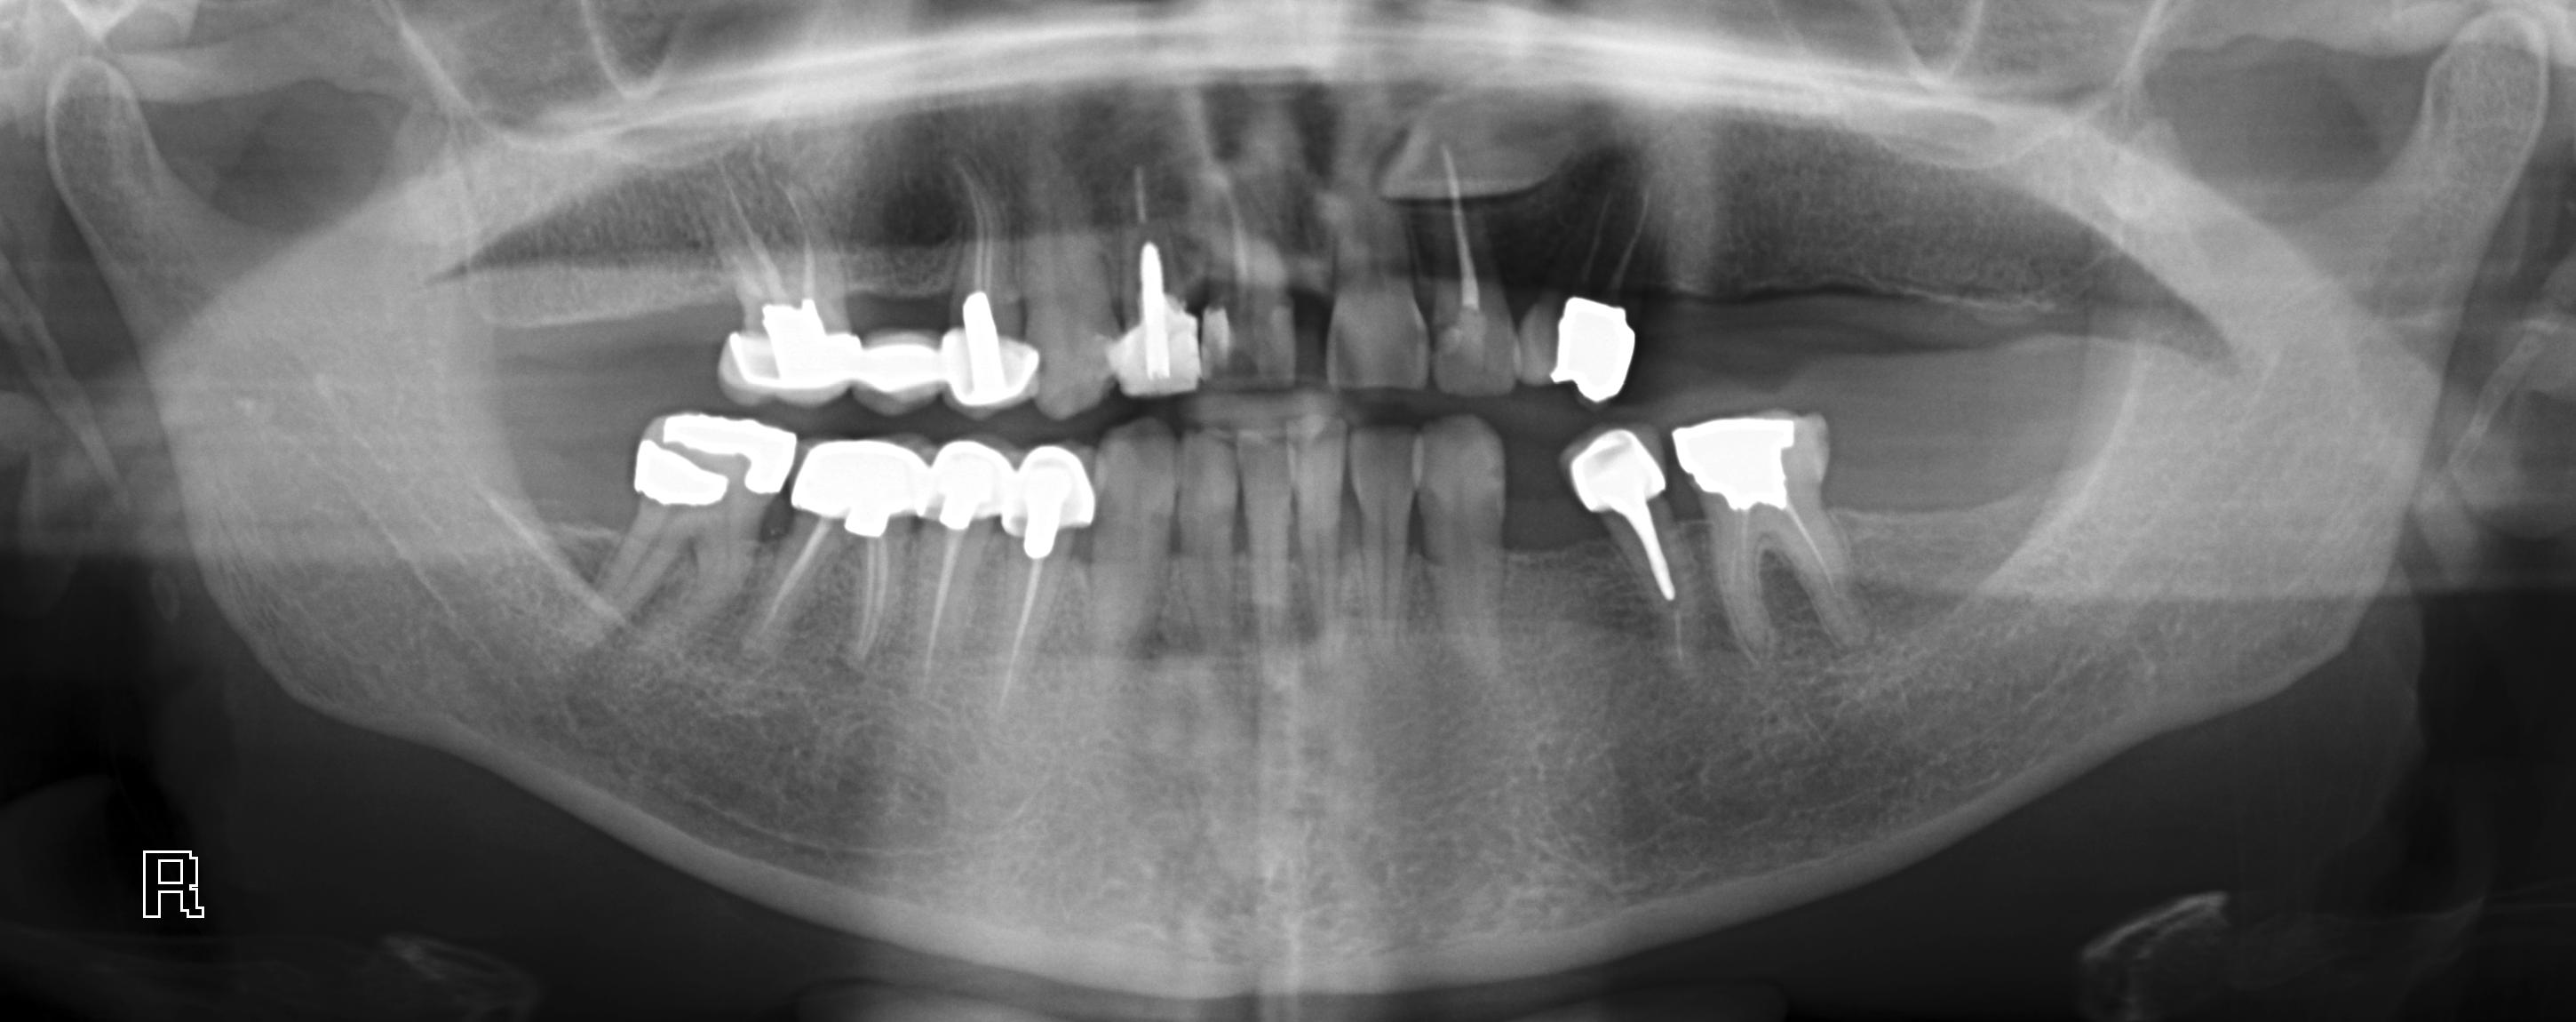Çürük: (790, 409, 933, 552), (1669, 398, 1809, 527), (721, 288, 861, 403), (654, 401, 812, 498), (1544, 276, 1653, 409), (1556, 417, 1674, 524), (608, 427, 733, 519), (1005, 427, 1101, 537), (927, 424, 1012, 542), (1106, 302, 1203, 396), (940, 327, 1046, 406), (1204, 307, 1232, 371)
Çürük Bölgesi: (1216, 347, 1257, 380)
